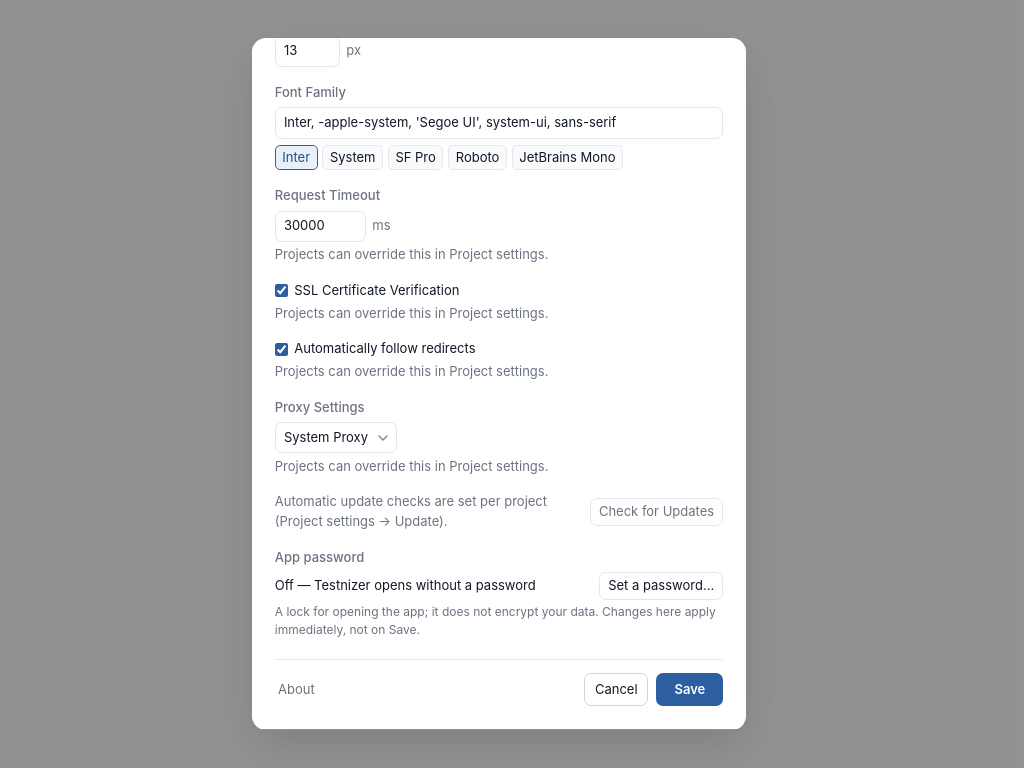
Test case: Settings → App password → Set (review #13) › a refused password stays in the form as an inline error; Cancel closes it
This screenshot has width=1024, height=768.
(page scrolled)
Click the button with test id "settings-app-password-set". click: click(661, 586)
box: [599,572,723,600]
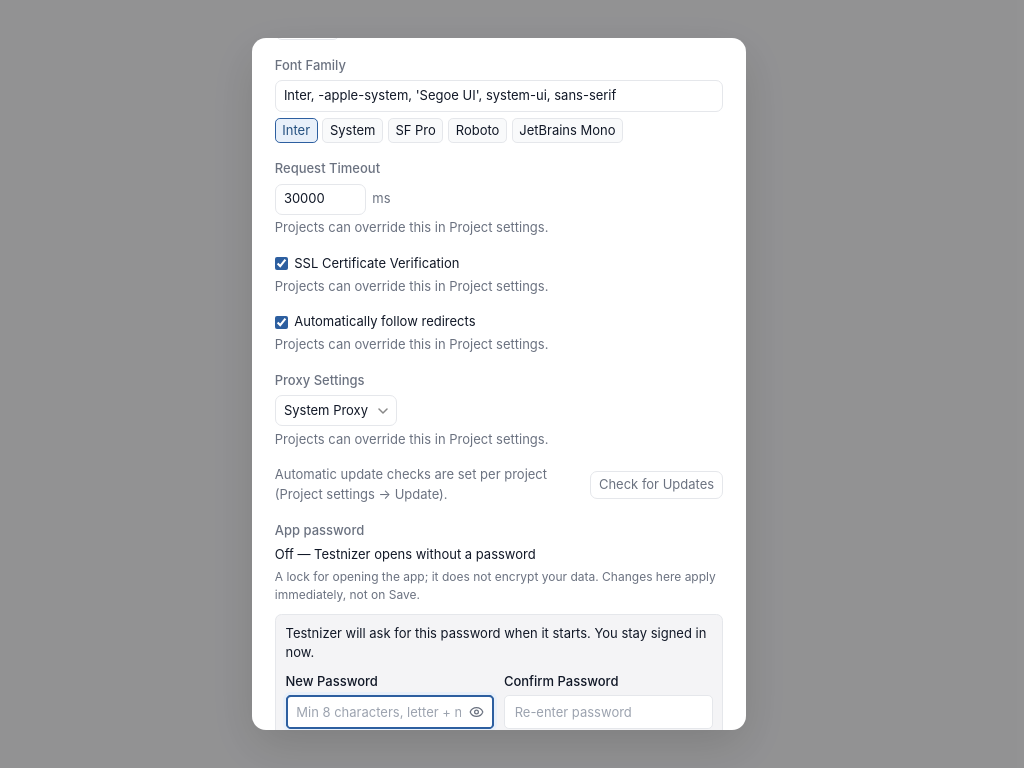
Type "Secret123" into the password field with test id "password-set-new". click: (390, 712)
box: [286,695,494,729]
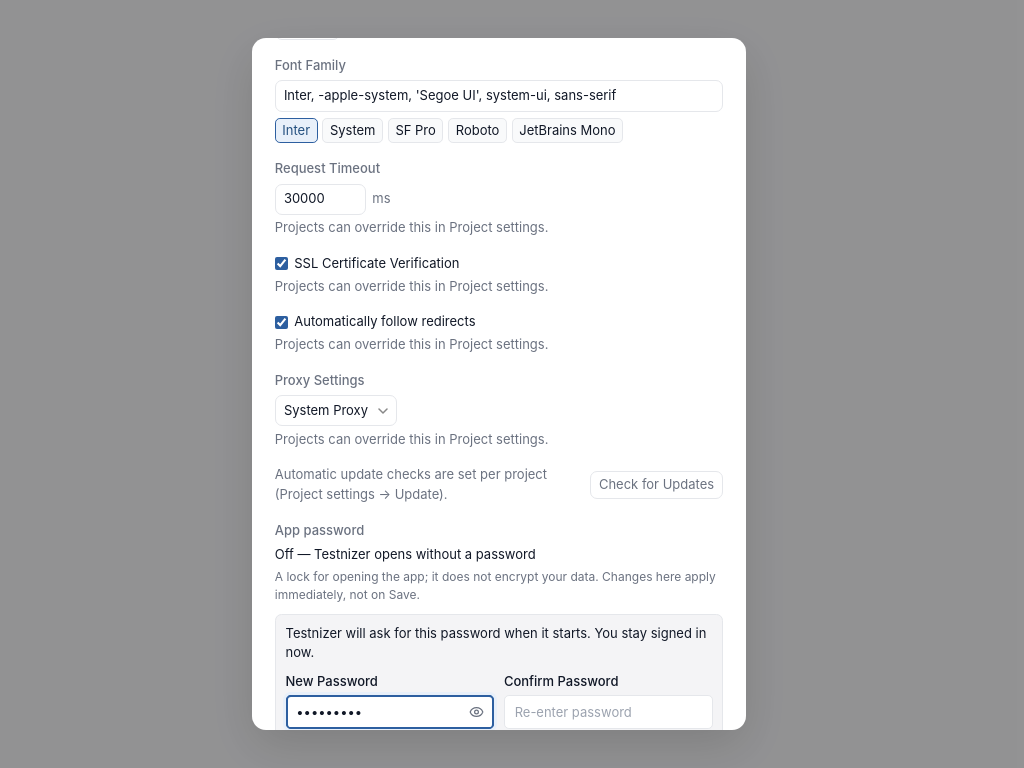
Type "Secret123" into the password field with test id "password-set-confirm". click: (608, 712)
box: [504,695,712,729]
(page scrolled)
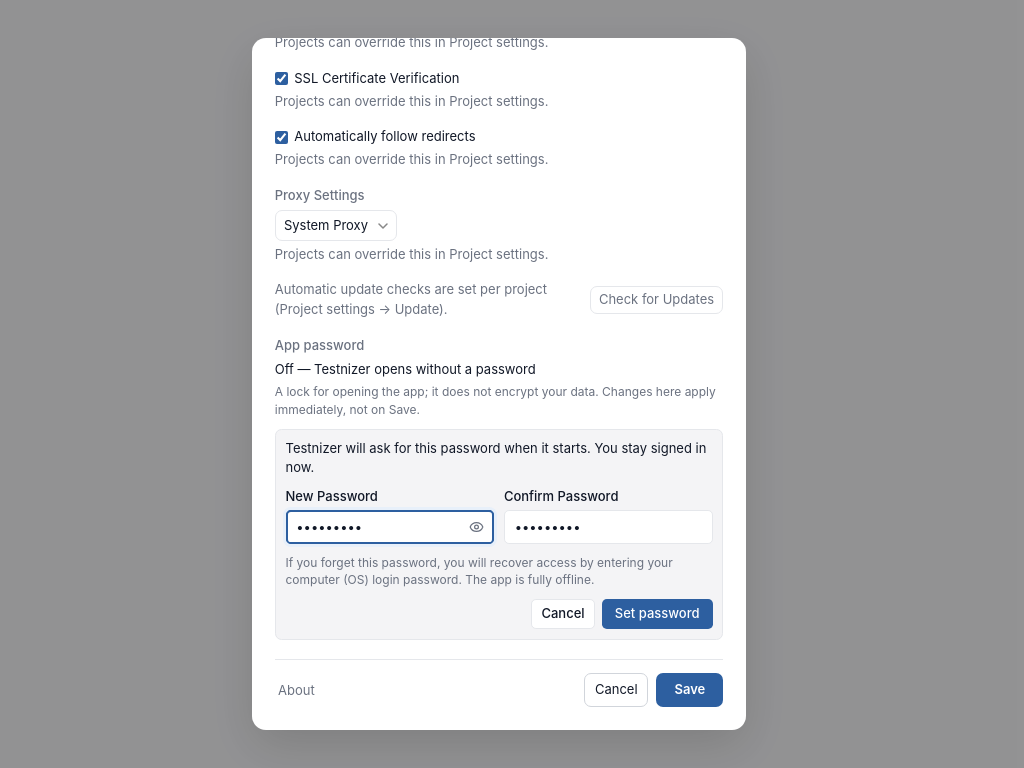
Click the button with test id "password-set-submit". click: click(657, 614)
box: [602,599,712,629]
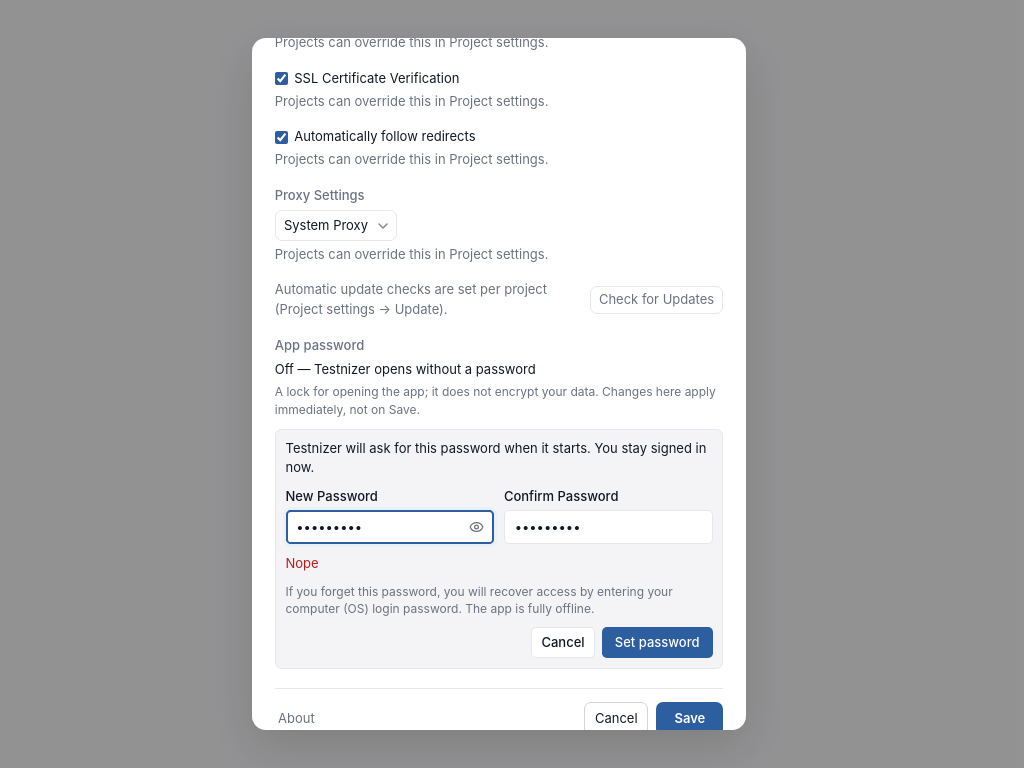
Result: the message with test id "password-set-error" reads "Nope" at [286,555,319,571]
Click the button with test id "password-set-cancel". click: click(563, 642)
box: [531,627,595,658]
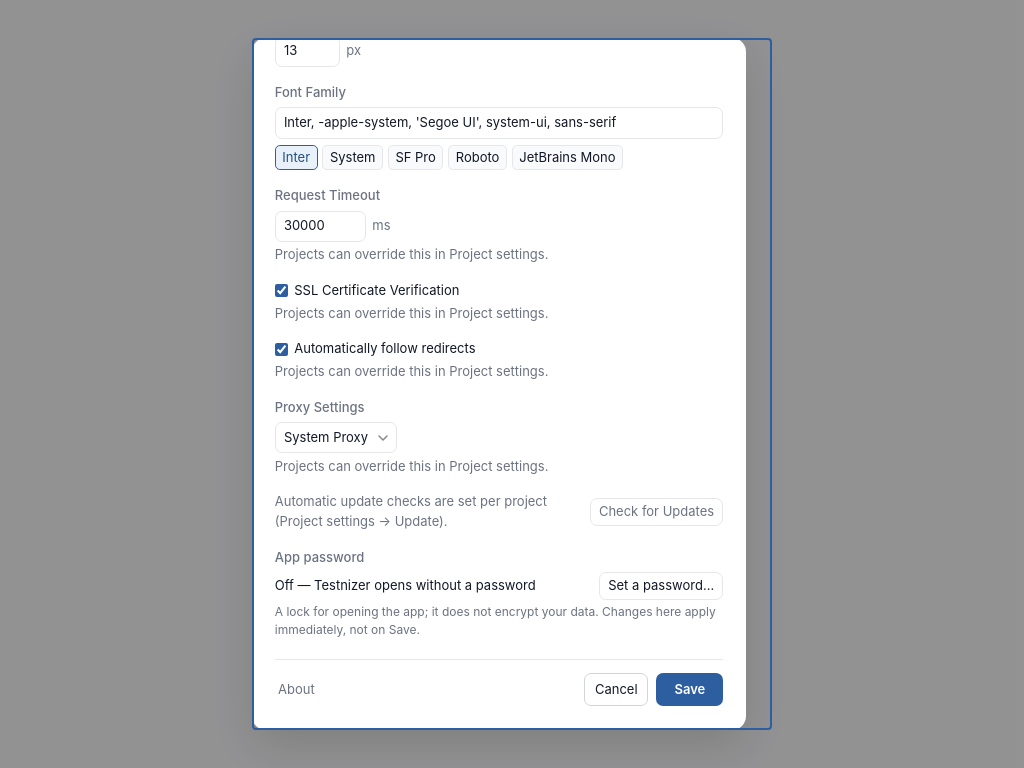
Result: the form with test id "password-set-form" is gone
